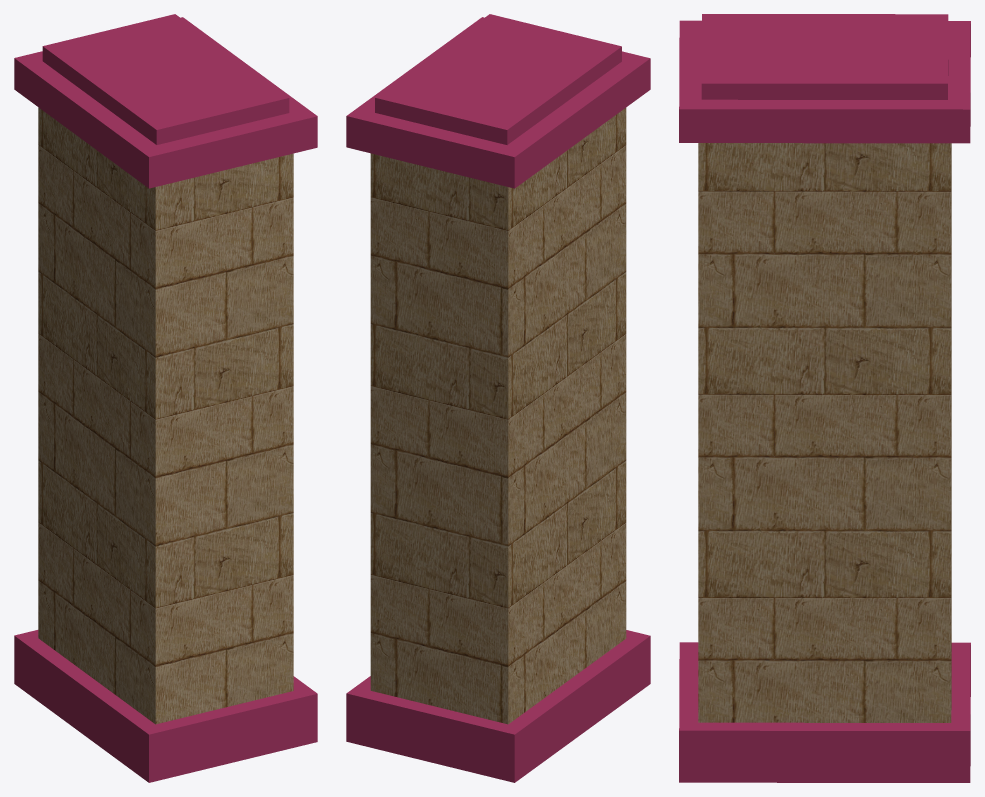
The picture shows the model from 3 angles, left to right: view 1: azimuth 30°, elevation 25°; view 2: azimuth 150°, elevation 25°; view 3: azimuth 270°, elevation 25°; orthographic projection. The views are drawn at different scales.
Parts seen in each view (by area): view 1: zhuzi-digong; view 2: zhuzi-digong; view 3: zhuzi-digong.
Boxes of the visible parts, x1,y1,x2,y2 form: zhuzi-digong: (14, 14, 317, 782); zhuzi-digong: (346, 14, 650, 782); zhuzi-digong: (679, 14, 970, 782).
Bounding box in the file's own units: 76.43 × 277 × 106.
